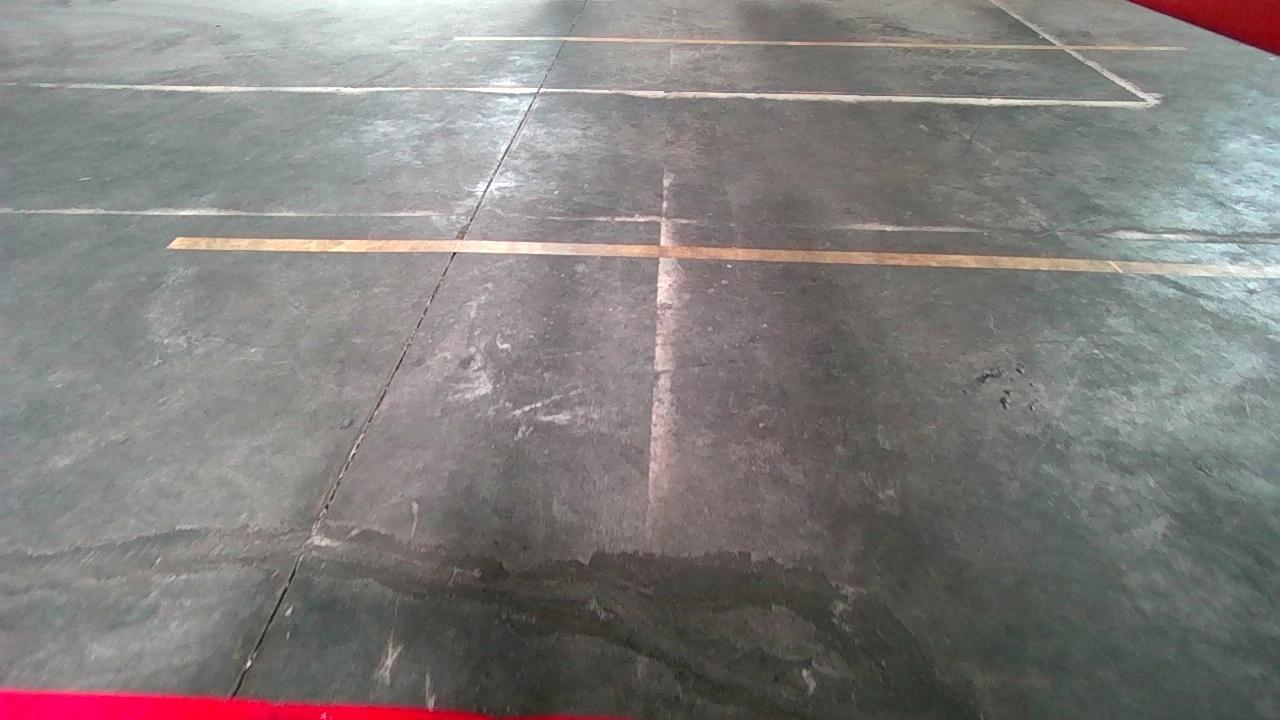yellow_line: (170, 237, 1280, 277)
